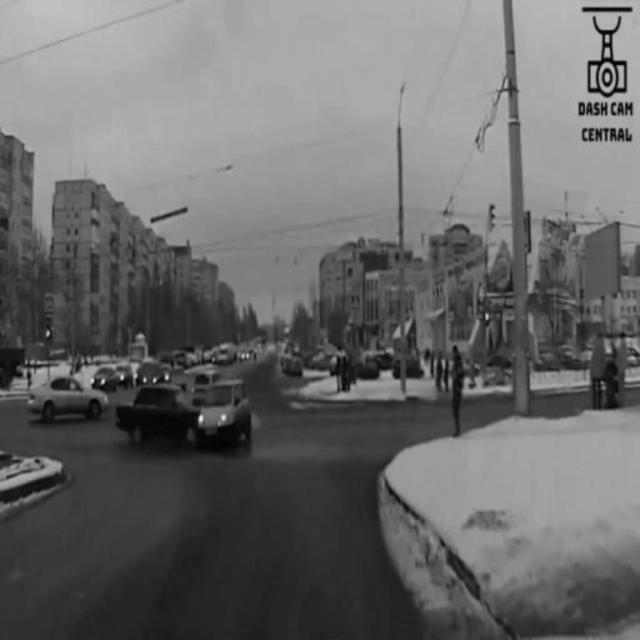accident: (119, 377, 257, 451)
person: (441, 345, 468, 441)
vehicle: (31, 375, 104, 422)
